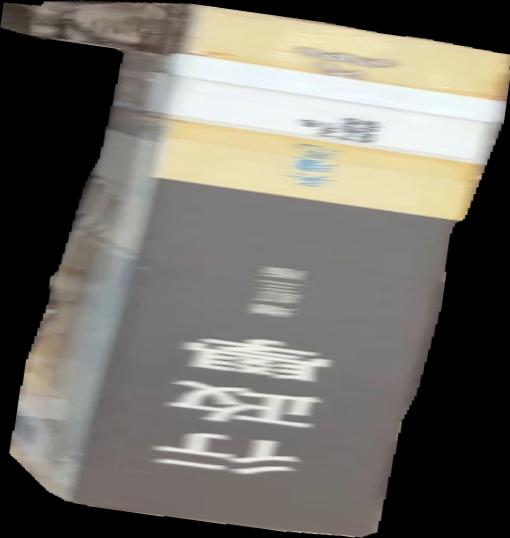reverse: (1, 1, 510, 538)
